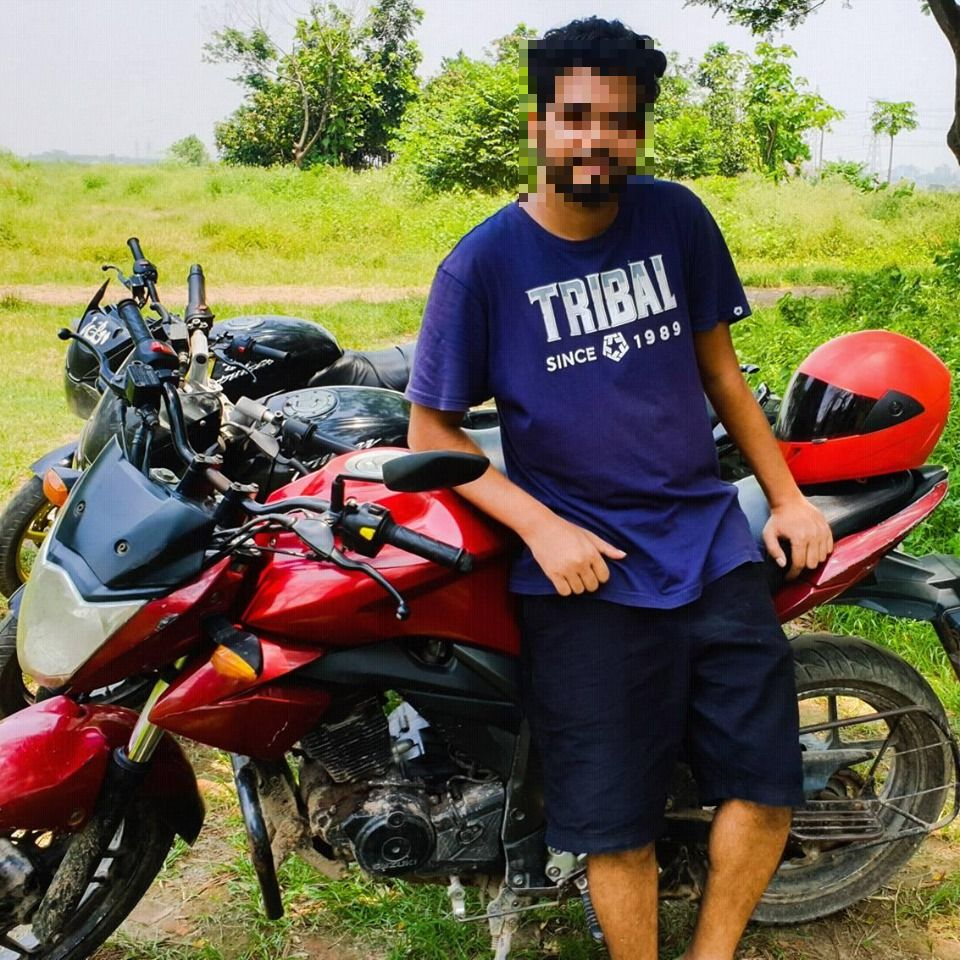bike: (1, 330, 960, 960), (2, 267, 447, 589), (62, 239, 449, 428)
